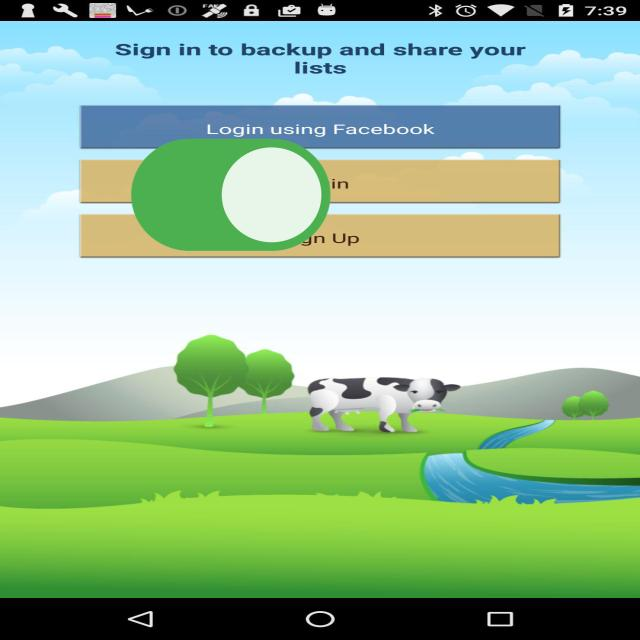social proof: (122, 95, 340, 302)
